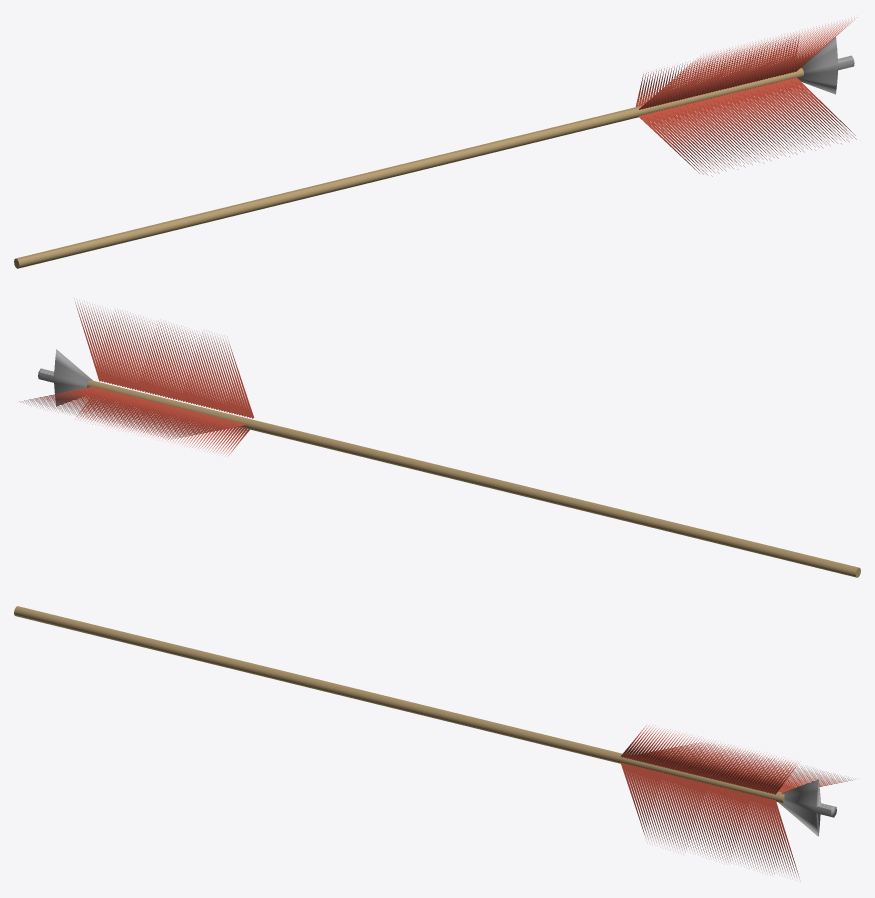
File: arrow.fbx
3 views of the same model, one above another, from view 1: azimuth 30°, elevation 25°; view 2: azimuth 150°, elevation 25°; view 3: azimuth 330°, elevation 25° (orthographic). The views are drawn at different scales.
Visible parts, largest first — view 1: Arrow_02_-_Default, Arrow_Wood_Ashen1, Arrow_Metal_Grey_Plai; view 2: Arrow_02_-_Default, Arrow_Wood_Ashen1, Arrow_Metal_Grey_Plai; view 3: Arrow_02_-_Default, Arrow_Wood_Ashen1, Arrow_Metal_Grey_Plai.
Part boxes in pixels (x1,y1,x2,y2): Arrow_02_-_Default: (635, 17, 857, 176); Arrow_Wood_Ashen1: (14, 68, 803, 268); Arrow_Metal_Grey_Plai: (798, 37, 854, 94); Arrow_02_-_Default: (19, 302, 254, 455); Arrow_Wood_Ashen1: (87, 380, 860, 577); Arrow_Metal_Grey_Plai: (38, 349, 93, 406); Arrow_02_-_Default: (620, 725, 852, 877); Arrow_Wood_Ashen1: (14, 606, 784, 803); Arrow_Metal_Grey_Plai: (778, 779, 836, 836).
Size of the model in its own units: 3.09 by 0.4482 by 0.3906.
